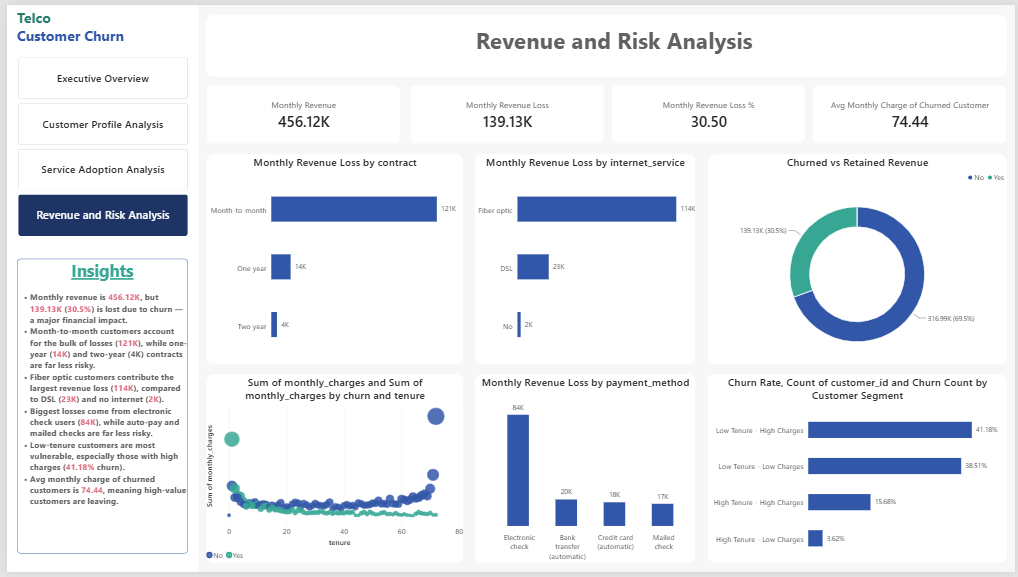

This screenshot's page, from the dashboard's own definition file:
{"tool":"powerbi","page":{"name":"Revenue and Risk Analysis","canvas":[1920,1080],"ordinal":3},"visuals":[{"type":"barChart","fields":{"Category":["public customer.contract"],"Y":["Measure Table.Monthly Revenue Loss"]},"box":[379.1,283.4,491.4,401.2],"z":0},{"type":"barChart","fields":{"Category":["public customer.internet_service"],"Y":["Measure Table.Monthly Revenue Loss"]},"box":[890.8,283.4,421.5,401.2],"z":1000},{"type":"columnChart","fields":{"Category":["public customer.payment_method"],"Y":["Measure Table.Monthly Revenue Loss"]},"box":[890.8,703.1,421.5,360.7],"z":2000},{"type":"scatterChart","fields":{"Series":["public customer.churn"],"Size":["Sum(public customer.monthly_charges)"],"X":["public customer.tenure"],"Y":["Sum(public customer.monthly_charges)"]},"box":[379.1,703.1,491.4,360.7],"z":3000},{"type":"donutChart","title":"Churned vs Retained Revenue","fields":{"Category":["public customer.churn"],"Y":["Sum(public customer.monthly_charges)"]},"box":[1332.5,283.4,572.4,401.2],"z":4000},{"type":"barChart","fields":{"Category":["public customer.Customer Segment"],"Y":["Measure Table.Churn Rate"]},"box":[1332.5,703.1,572.4,360.7],"z":5000},{"type":"cardVisual","title":"Total Customers","fields":{"Data":["Sum(public customer.monthly_charges)"]},"box":[379.1,152,372,112],"z":6000},{"type":"cardVisual","title":"Total Customers","fields":{"Data":["Measure Table.Monthly Revenue Loss"]},"box":[766,152,372,112],"z":7000},{"type":"cardVisual","title":"Total Customers","fields":{"Data":["Measure Table.Monthly Revenue Loss %"]},"box":[1149,152.8,372,112],"z":8000},{"type":"shape","box":[0,0,364.4,1080.4],"z":9000},{"type":"textbox","box":[18.4,3.7,323.9,95.7],"z":10000},{"type":"pageNavigator","box":[20.2,99.4,323.9,342.3],"z":11000},{"type":"shape","box":[379.1,18.4,1525.8,117.8],"z":12000},{"type":"textbox","box":[410.4,38.7,1494.5,73.6],"z":13000},{"type":"cardVisual","title":"Total Customers","fields":{"Data":["Measure Table.Avg Charge of Churned Customer"]},"box":[1533.1,152,372,112],"z":14000},{"type":"textbox","box":[18.4,484.1,325.8,561.4],"z":15000}]}

Visuals, with their boxes in screenshot pixels (x1, y1, x2, y2), scaled from the page's 1920x1080 canvas onto the 1018x577 screenshot:
barChart - public customer.contract x Measure Table.Monthly Revenue Loss: bbox=[201, 151, 462, 366]
barChart - public customer.internet_service x Measure Table.Monthly Revenue Loss: bbox=[472, 151, 696, 366]
columnChart - public customer.payment_method x Measure Table.Monthly Revenue Loss: bbox=[472, 376, 696, 568]
scatterChart - public customer.churn x Sum(public customer.monthly_charges): bbox=[201, 376, 462, 568]
"Churned vs Retained Revenue" donutChart: bbox=[707, 151, 1010, 366]
barChart - public customer.Customer Segment x Measure Table.Churn Rate: bbox=[707, 376, 1010, 568]
"Total Customers" cardVisual: bbox=[201, 81, 398, 141]
"Total Customers" cardVisual: bbox=[406, 81, 603, 141]
"Total Customers" cardVisual: bbox=[609, 82, 806, 141]
shape: bbox=[0, 0, 193, 576]
textbox: bbox=[10, 2, 181, 53]
pageNavigator: bbox=[11, 53, 182, 236]
shape: bbox=[201, 10, 1010, 73]
textbox: bbox=[218, 21, 1010, 60]
"Total Customers" cardVisual: bbox=[813, 81, 1010, 141]
textbox: bbox=[10, 259, 182, 559]
